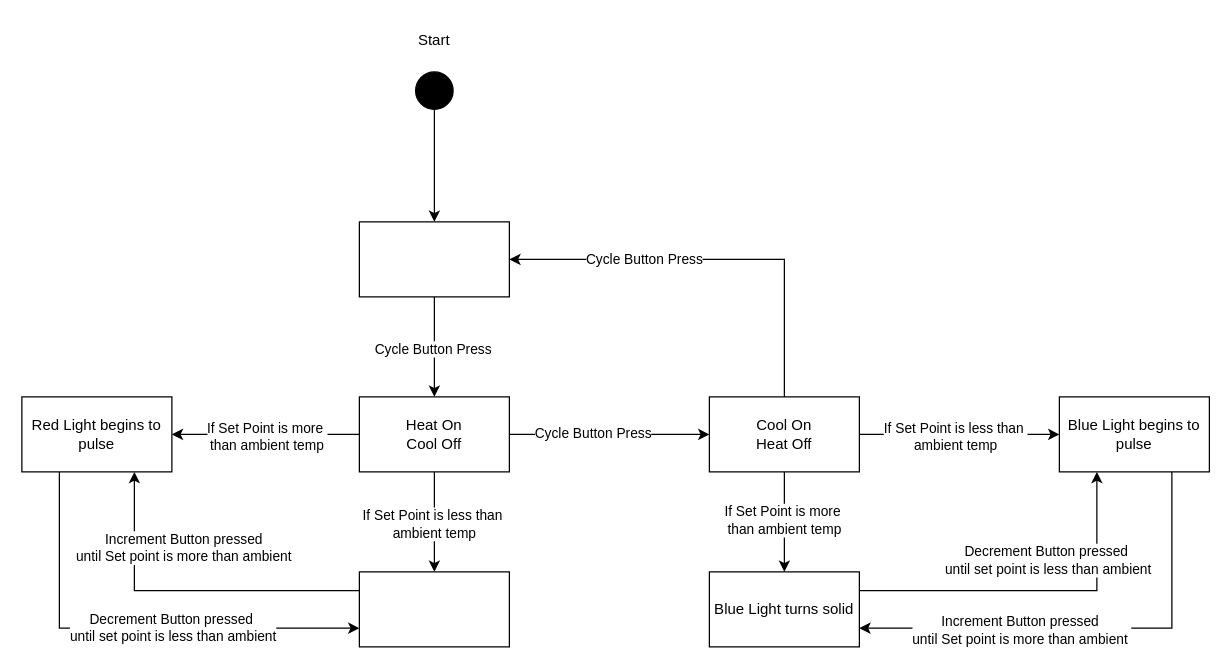
The diagram is 1231 pixels wide and 669 high, and some of its shapes have lost their labels. The shapes that lost their labels are listed below. From the top down, each one's centre as x and y in pixels, then its label:
At [433,259]: "Off".
At [433,609]: "Red Light turns solid".
